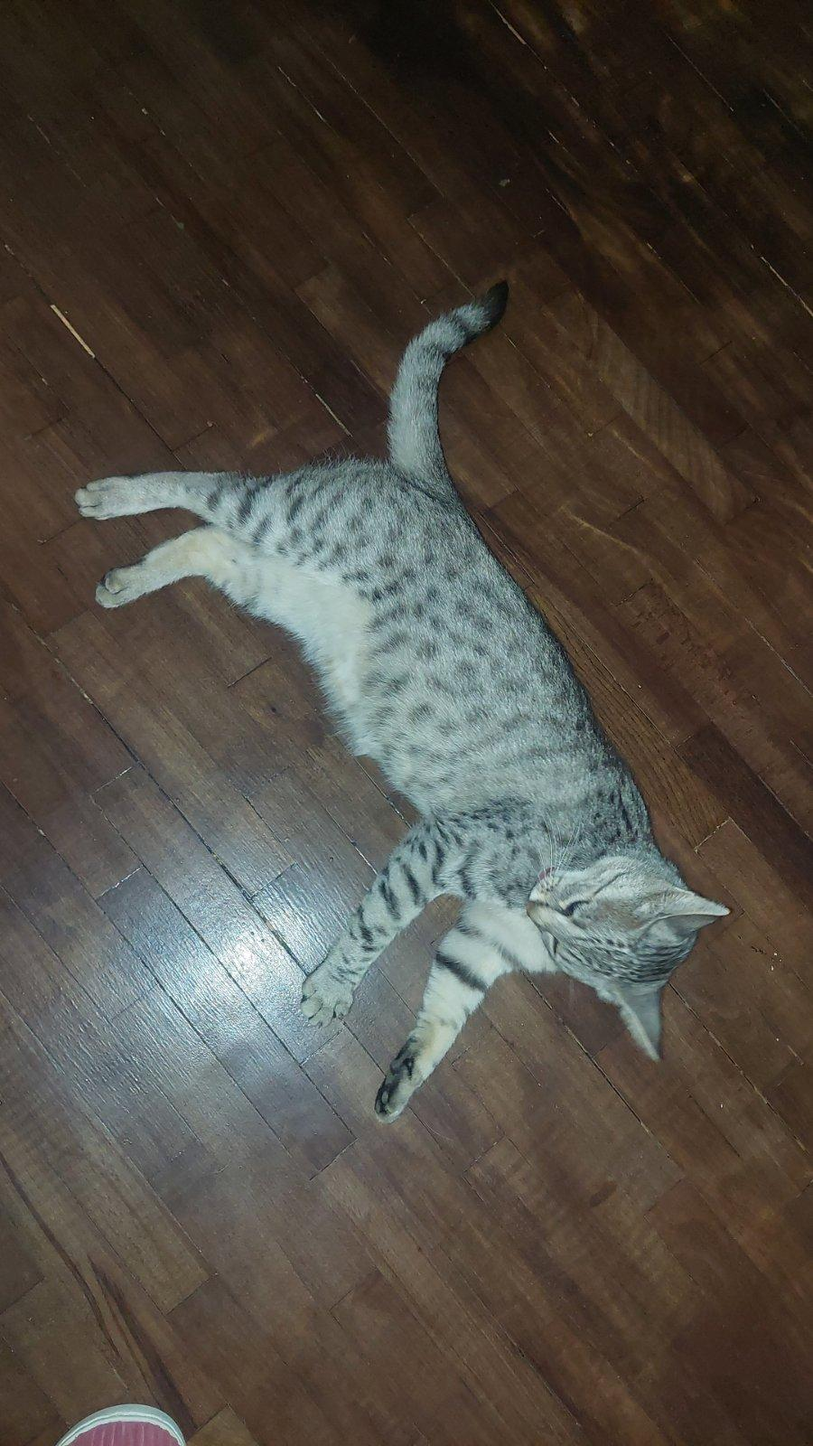macka: (76, 281, 733, 1123)
